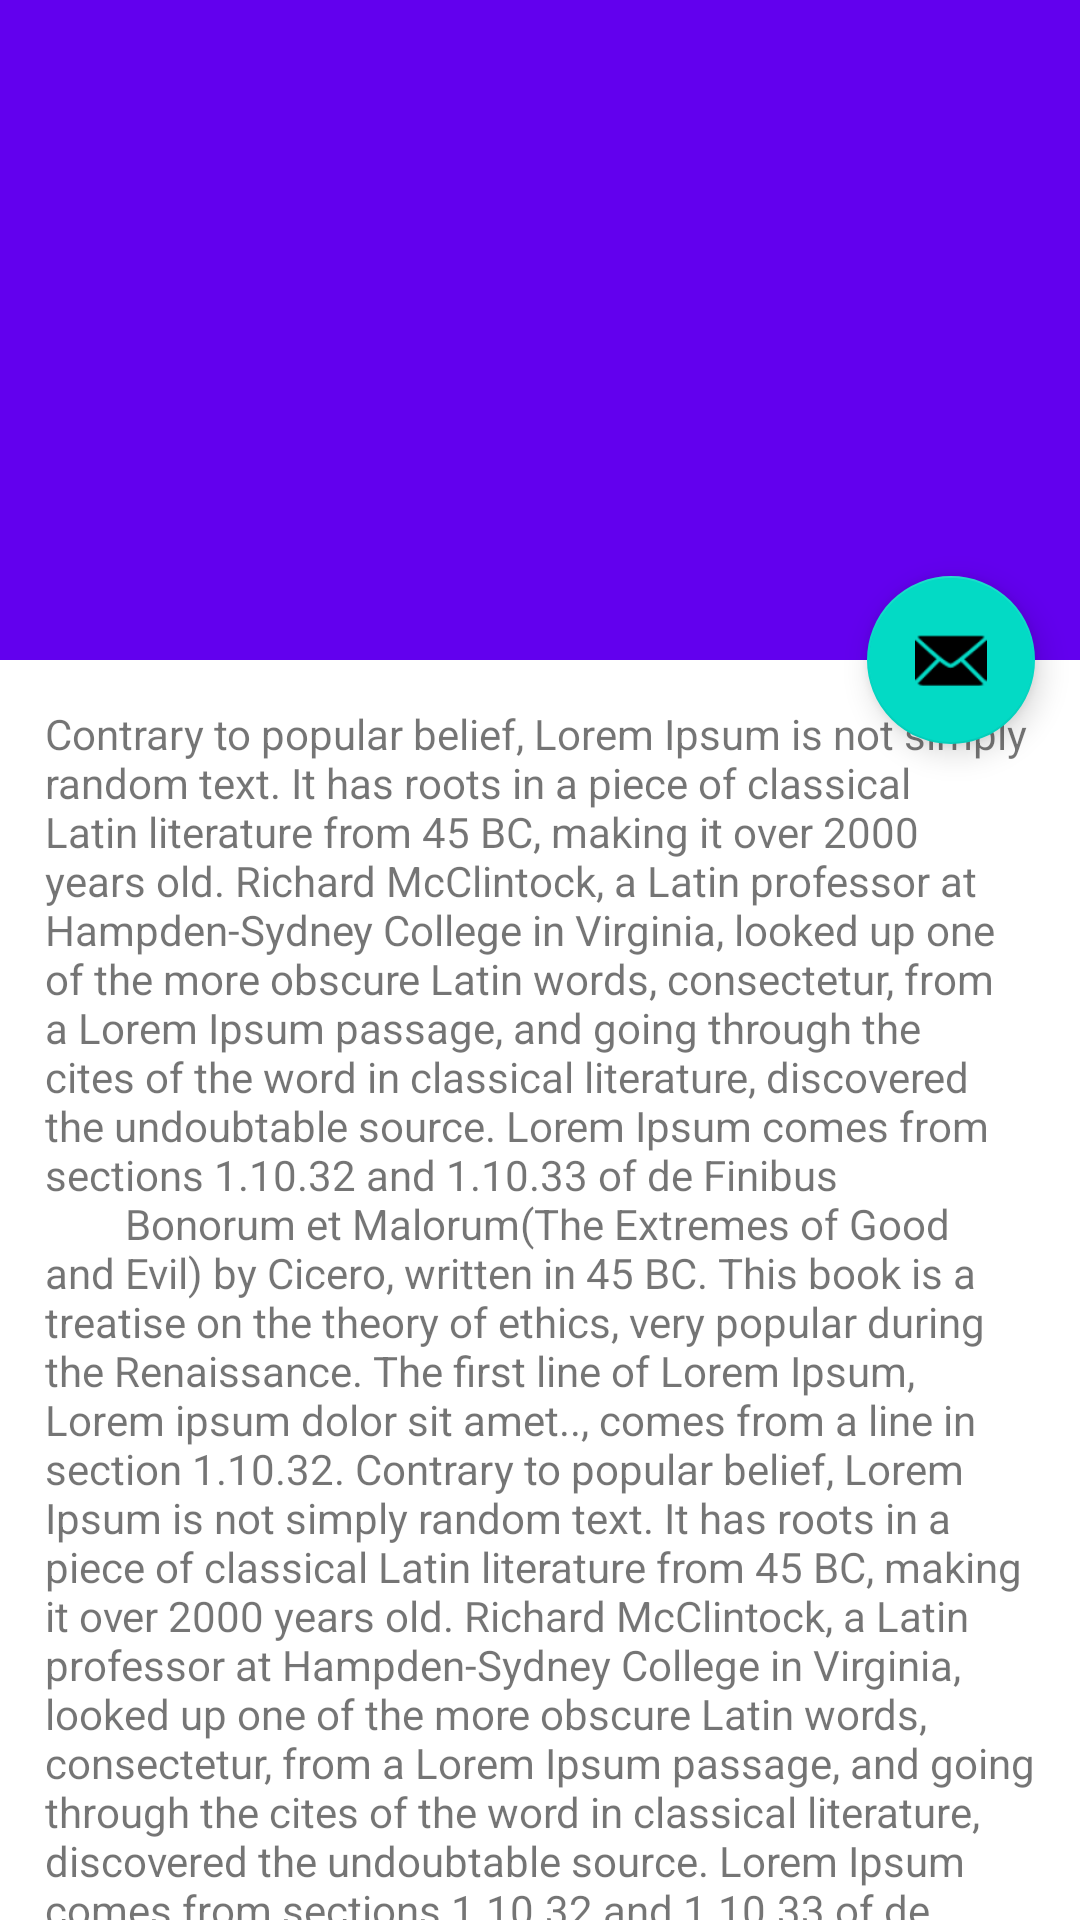

Icons on this 1080×1920 Android screen, each with the point to tap as [x,y]:
email: [951,660]
